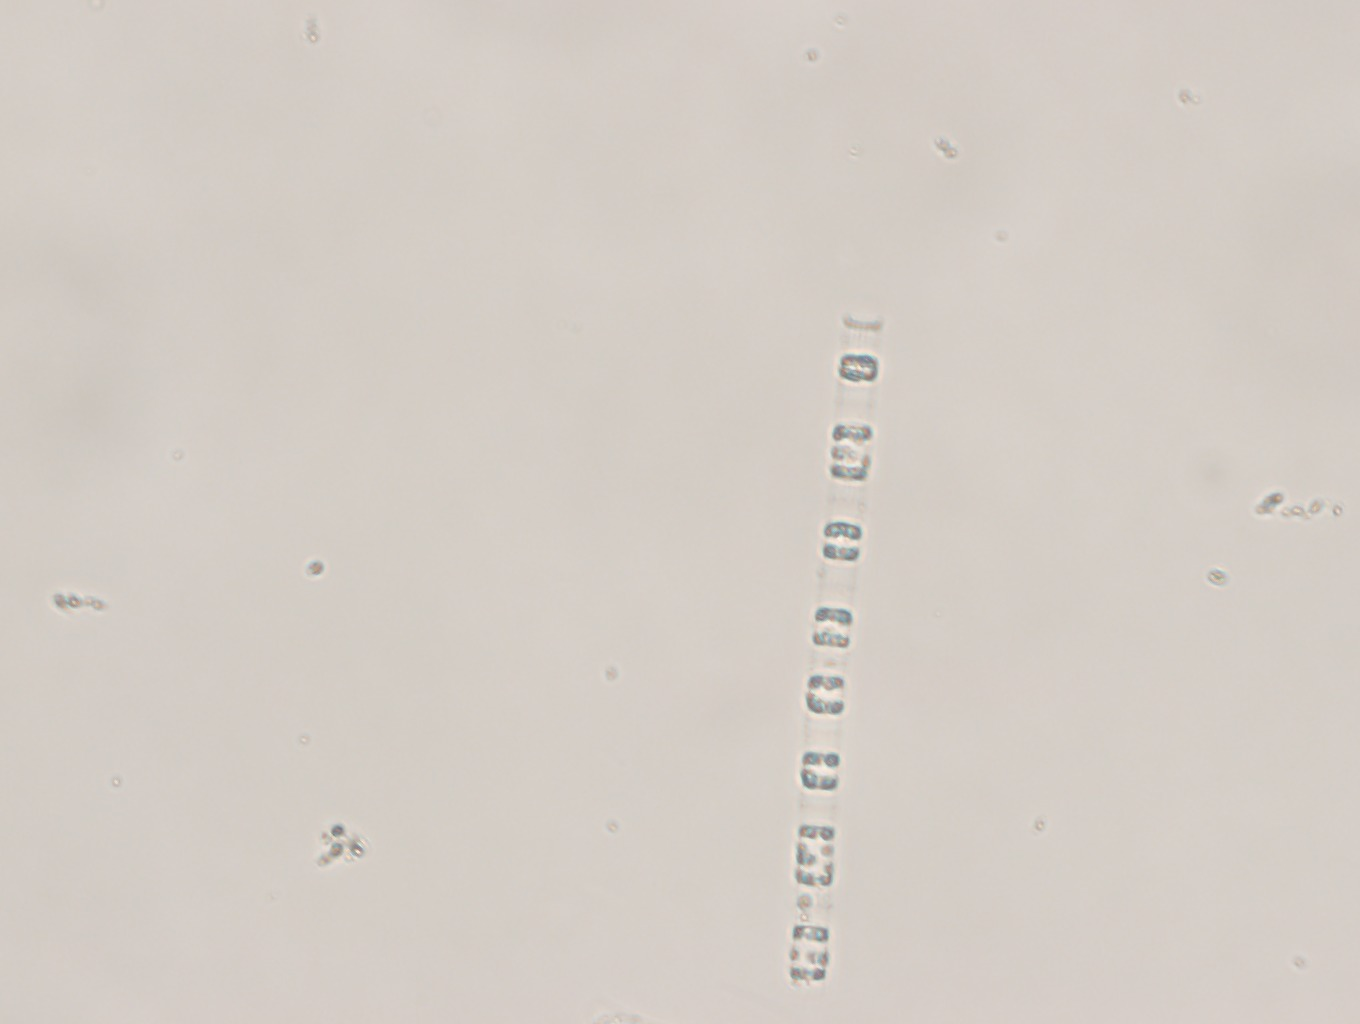skeletonema: (789, 303, 884, 991)
